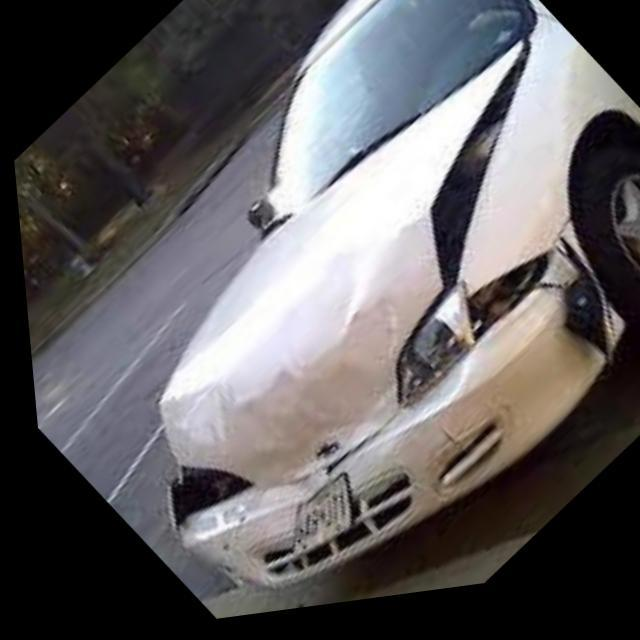dent: (149, 65, 627, 598)
